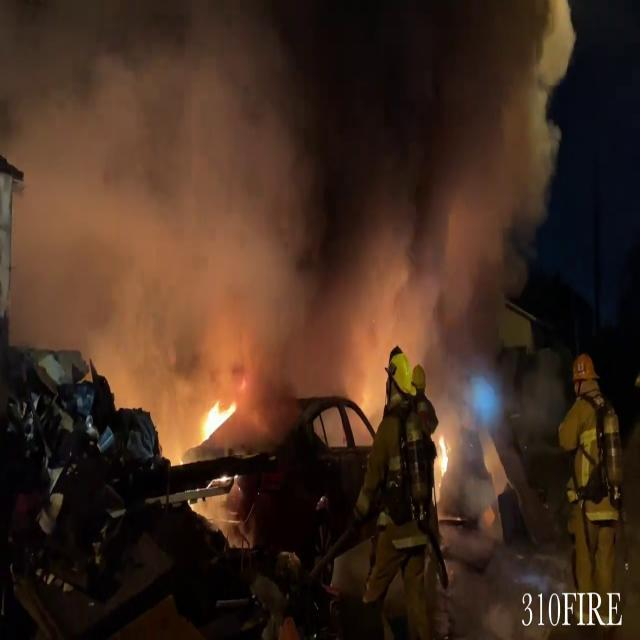Fire: (187, 391, 241, 448), (434, 429, 452, 482)
Smoke: (2, 0, 574, 424)
